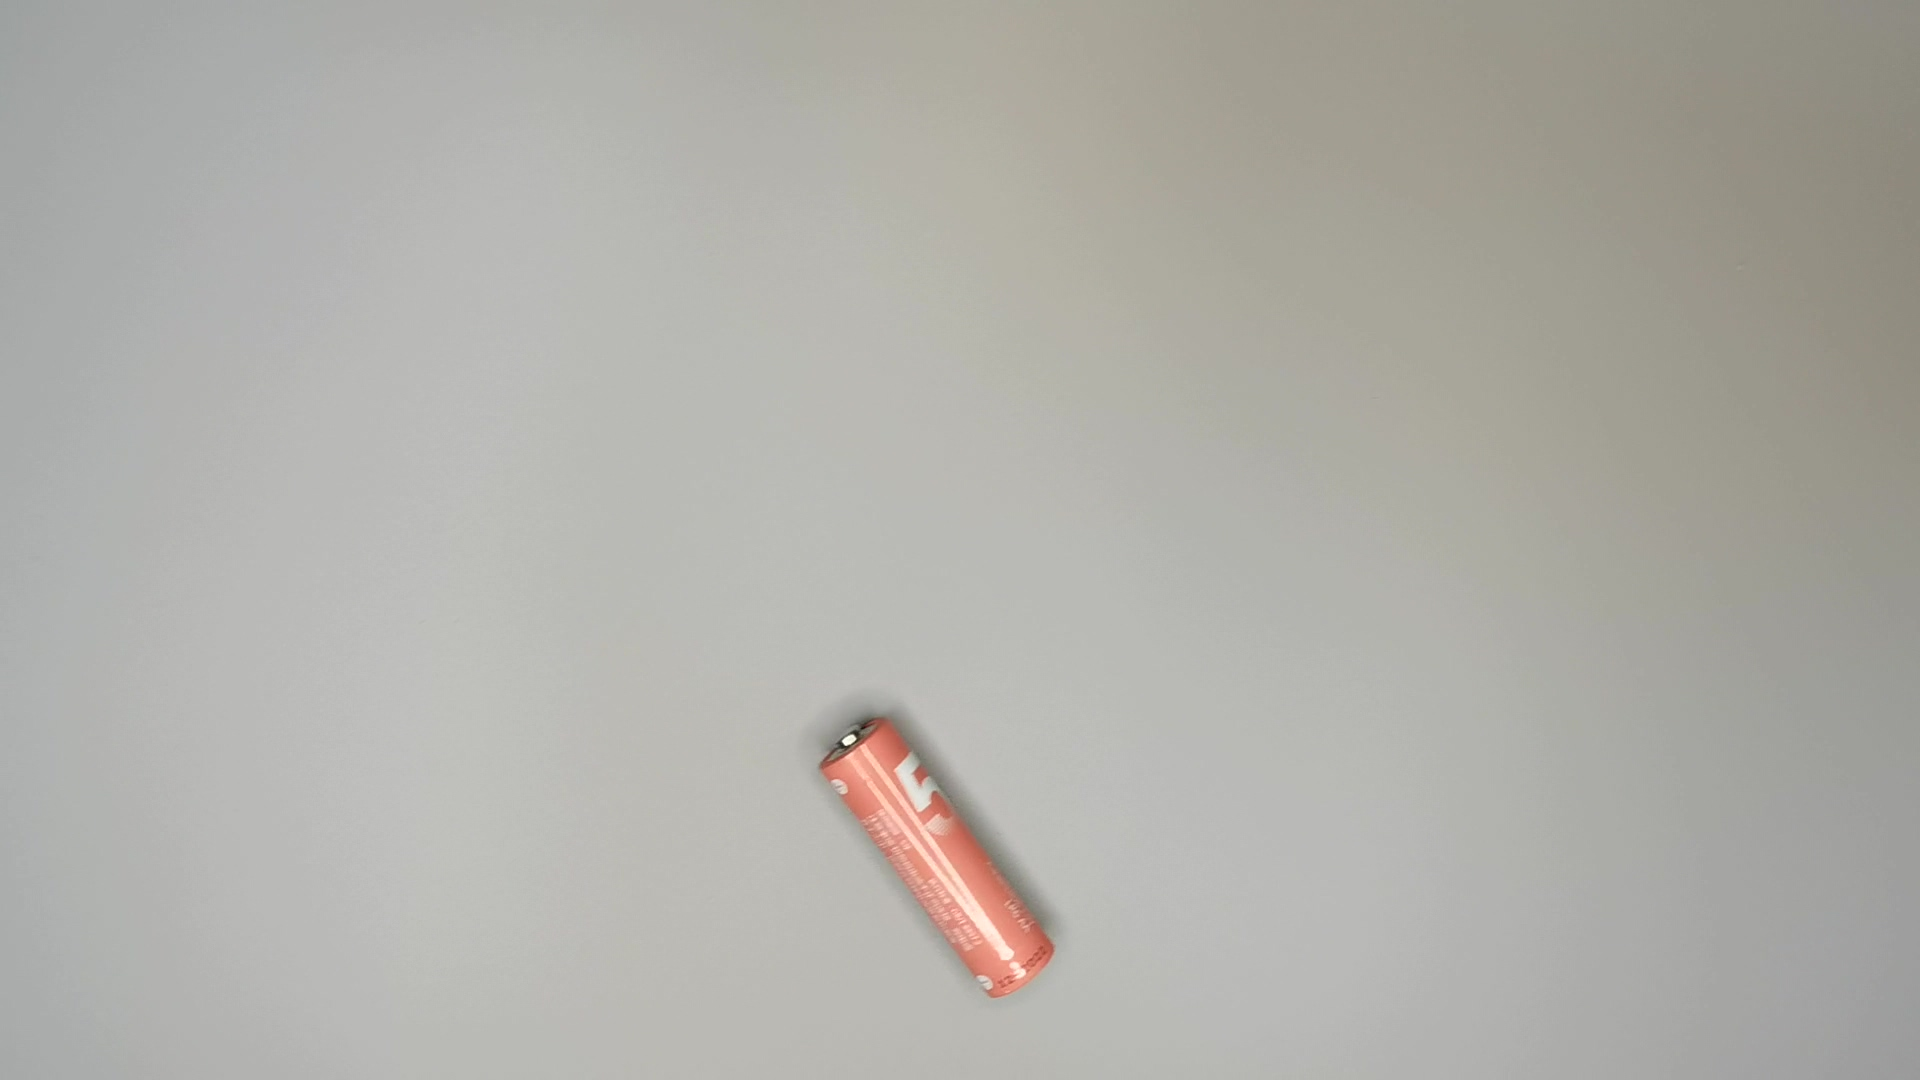battery: (822, 708, 1065, 1007)
